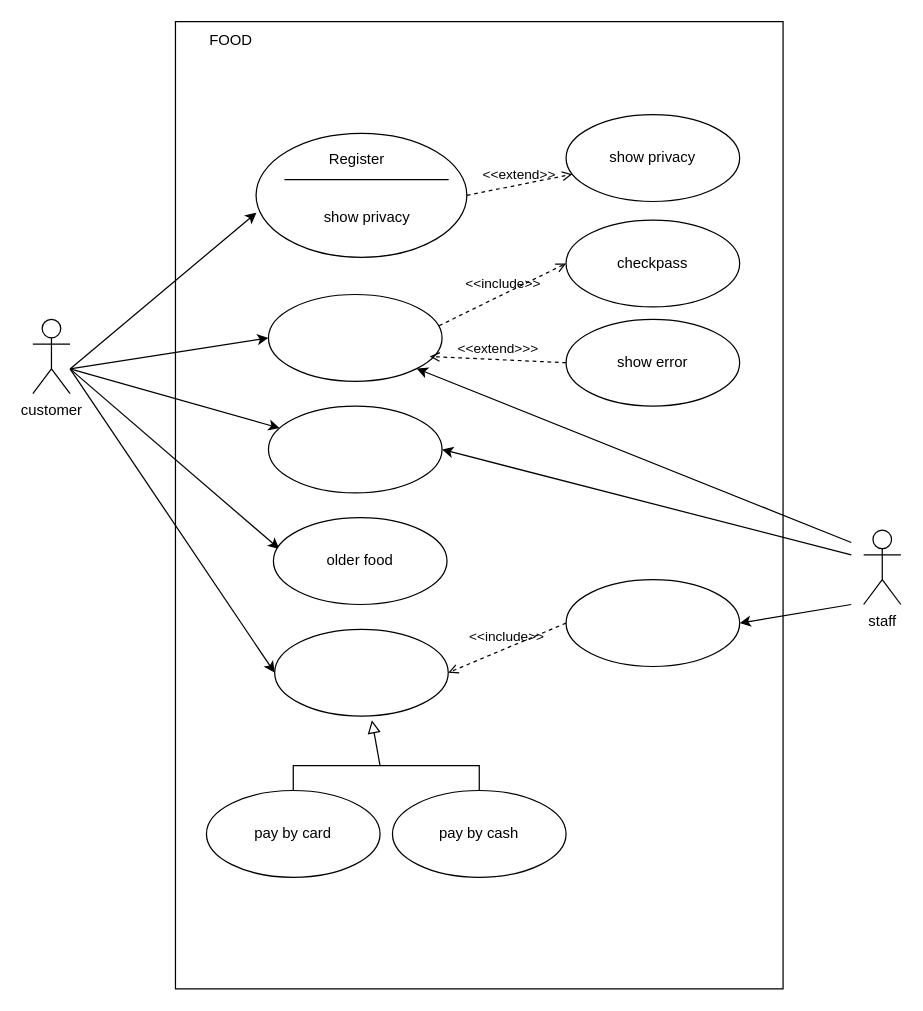
Image size: 923x1011. Some labels were removed from this diagram. Here are the shapes that lost their labels. From the top down, the centre of each, then its label:
the point at 354,337: Login
the point at 354,449: search food
the point at 652,622: create invoice
the point at 360,672: make payment
